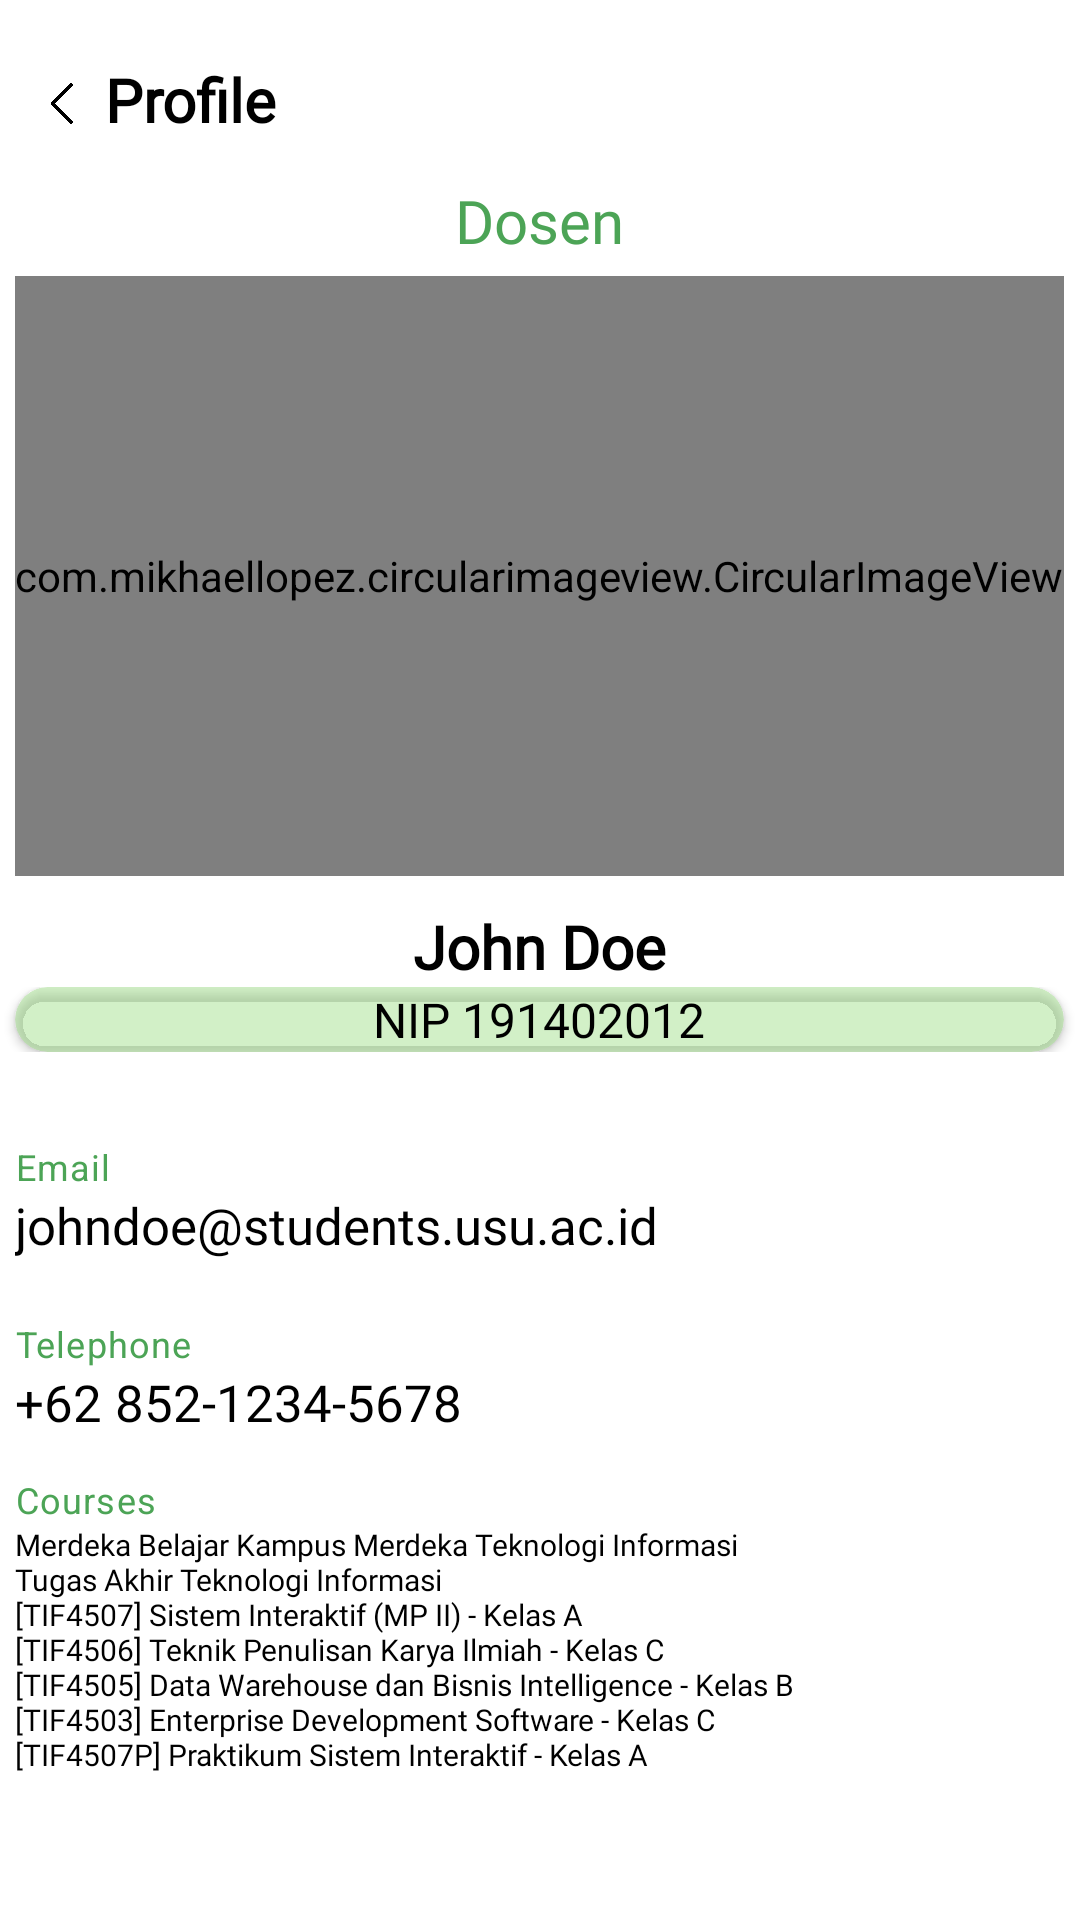

Where icons sit on this 1080x1920 app screen, as rect(x1, y1, x2, y2):
back: rect(51, 83, 73, 124)
